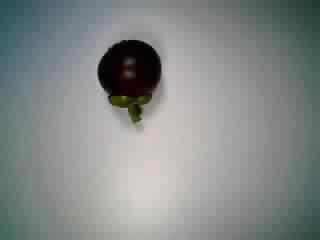mangosteen: (94, 35, 166, 126)
